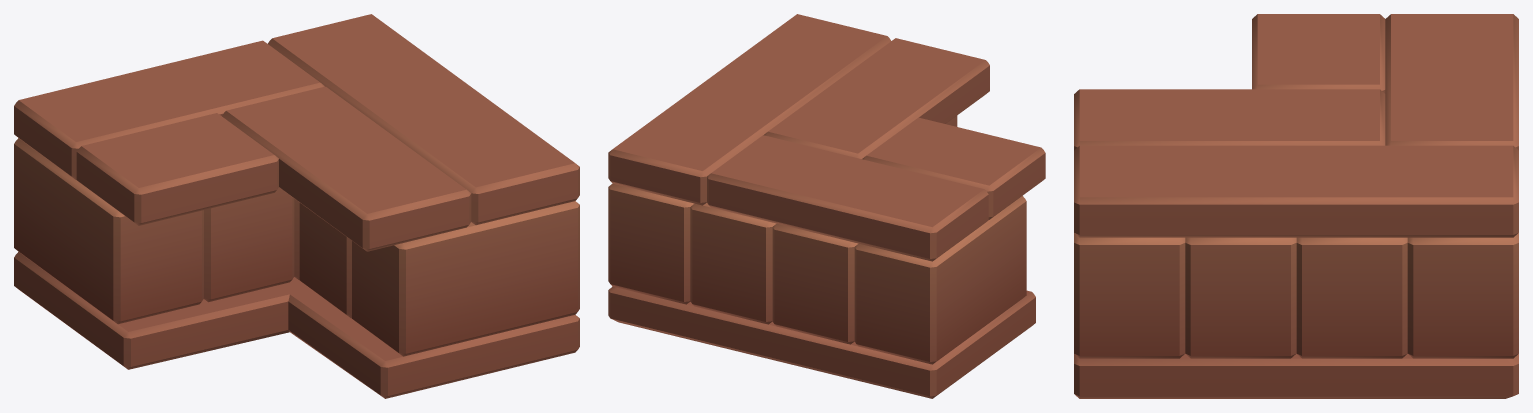
File: bar_innercorner.glb
3 views of the same model, side by side, from view 1: azimuth 30°, elevation 25°; view 2: azimuth 150°, elevation 25°; view 3: azimuth 270°, elevation 25° (orthographic). The views are drawn at different scales.
Parts seen in each view (by area): view 1: bar_innercorner; view 2: bar_innercorner; view 3: bar_innercorner.
Boxes of the visible parts, x1=… form: bar_innercorner: x1=14, y1=14, x2=579, y2=398; bar_innercorner: x1=608, y1=14, x2=1045, y2=398; bar_innercorner: x1=1074, y1=14, x2=1518, y2=398.
Size of the model in its own units: 2 by 1 by 2.
1 material, 1 textured.
